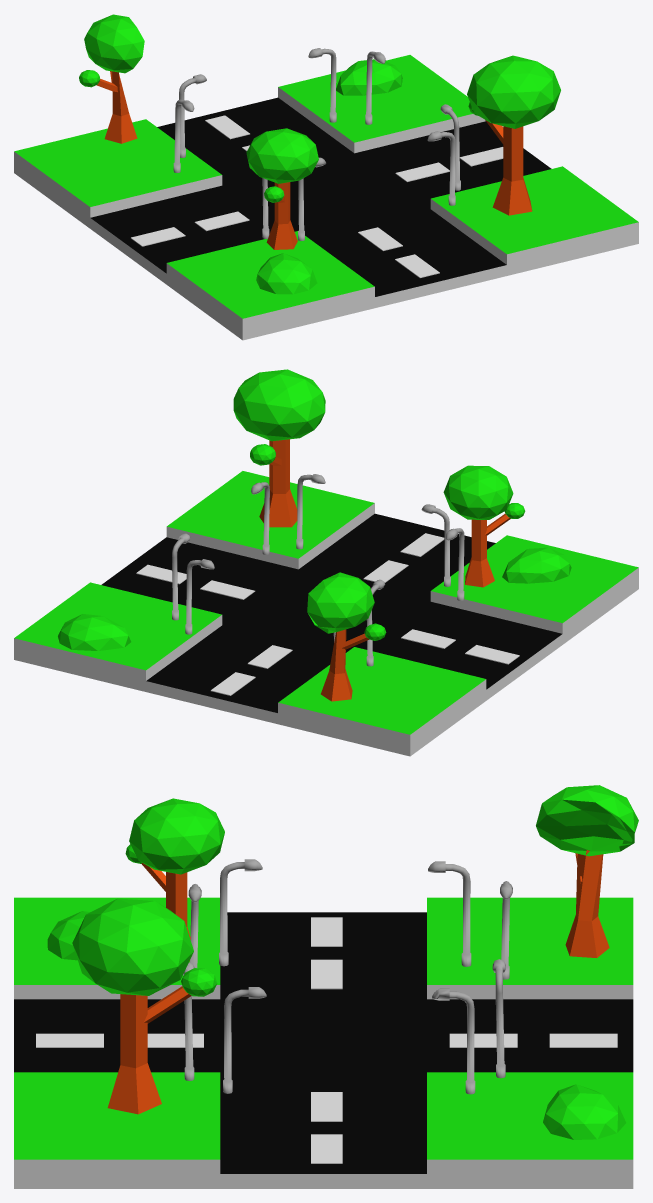
3 views of the same model, one above another, from view 1: azimuth 30°, elevation 25°; view 2: azimuth 150°, elevation 25°; view 3: azimuth 270°, elevation 25° (orthographic). The views are drawn at different scales.
Parts seen in each view (by area): view 1: Cube.008; view 2: Cube.008; view 3: Cube.008.
Boxes of the visible parts, box(x1,y1,x2,y2) form: Cube.008: box(14, 14, 638, 340); Cube.008: box(14, 369, 638, 756); Cube.008: box(14, 785, 638, 1188).
Size of the model in its own units: 200 by 82.08 by 202.
